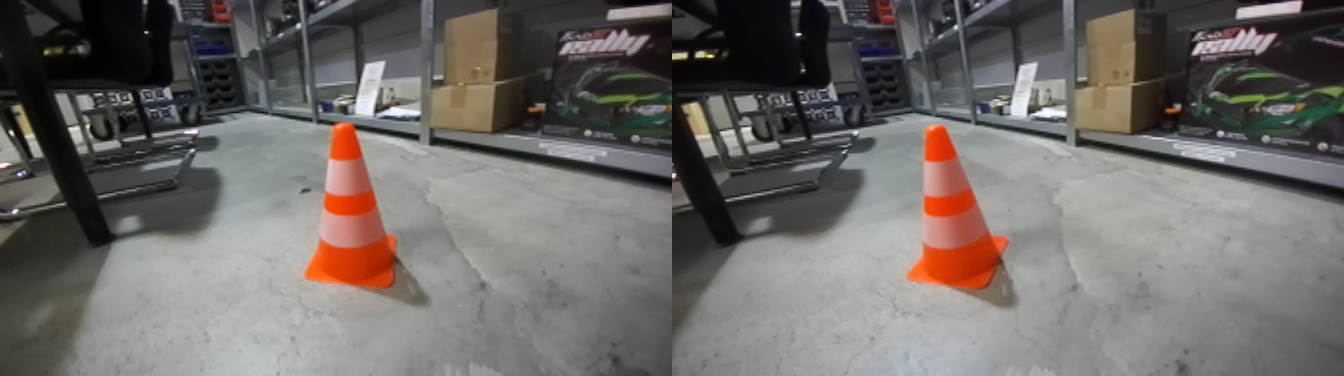cone: (907, 133, 1015, 296), (307, 128, 410, 294)
